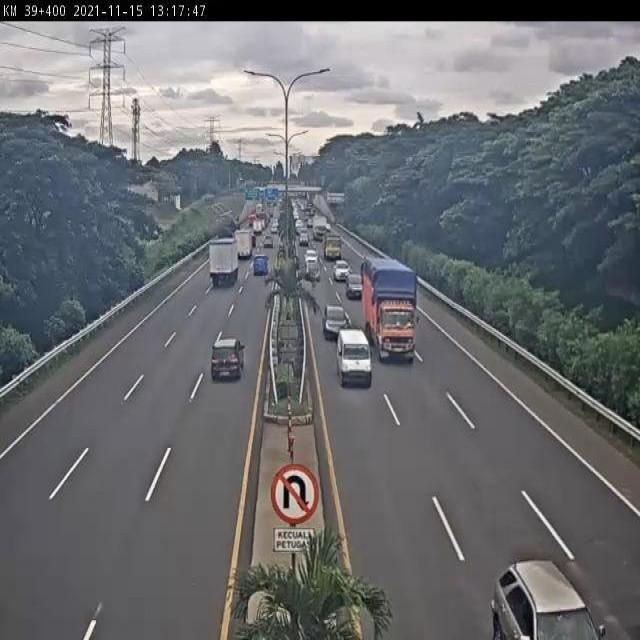bus-s-: (252, 251, 269, 276)
car: (209, 338, 246, 382), (322, 304, 350, 340), (345, 270, 365, 298), (333, 257, 351, 284), (305, 261, 322, 284)
small truck: (336, 329, 374, 387)
truck-m-: (361, 256, 419, 363), (207, 239, 243, 285)
